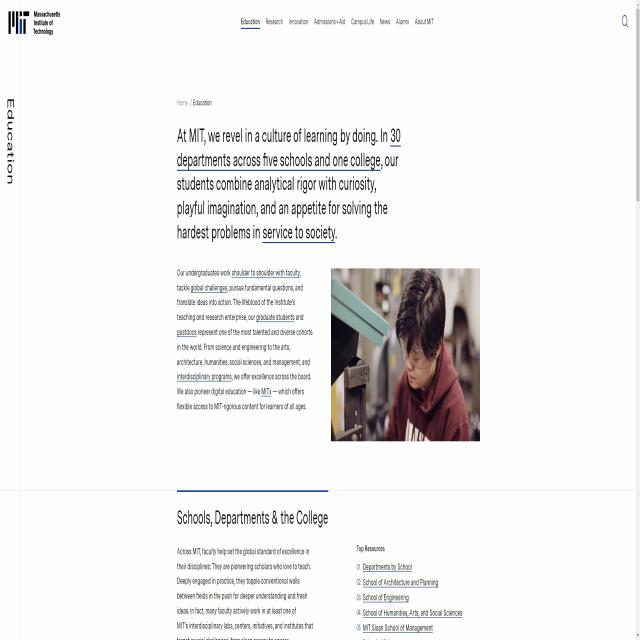search: (618, 7, 632, 36)
tab-bar: (239, 8, 435, 37)
